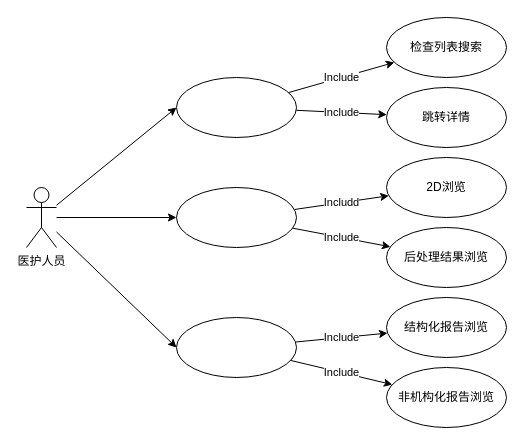
This 524x445 diagram has some shape labels left out. Each missing label, with the centre of its shape:
"查看检查列表" goes at point (236, 107).
"浏览影像" goes at point (236, 217).
"浏览报告" goes at point (236, 347).
